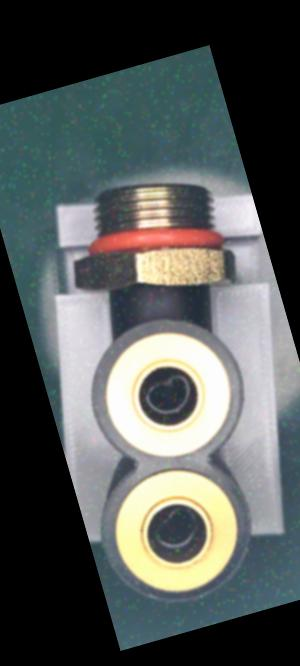off-centered: (138, 495, 213, 558), (132, 364, 203, 427)
